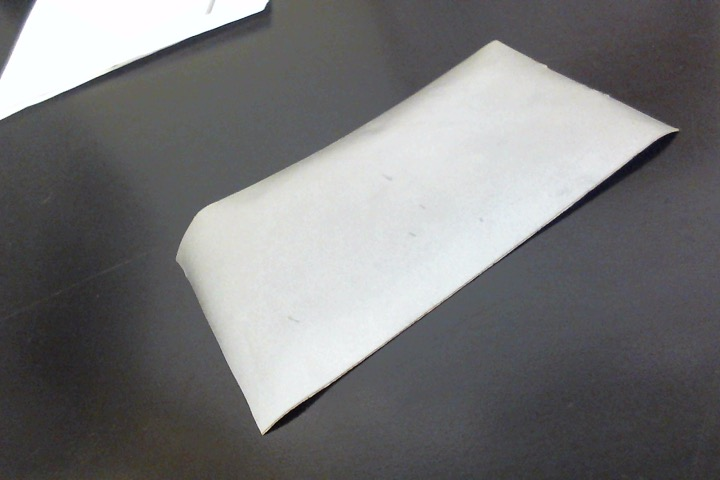Tape: (176, 40, 681, 434)
